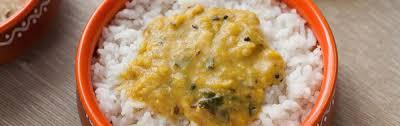rice: (104, 3, 314, 119)
varan: (146, 20, 265, 113)
